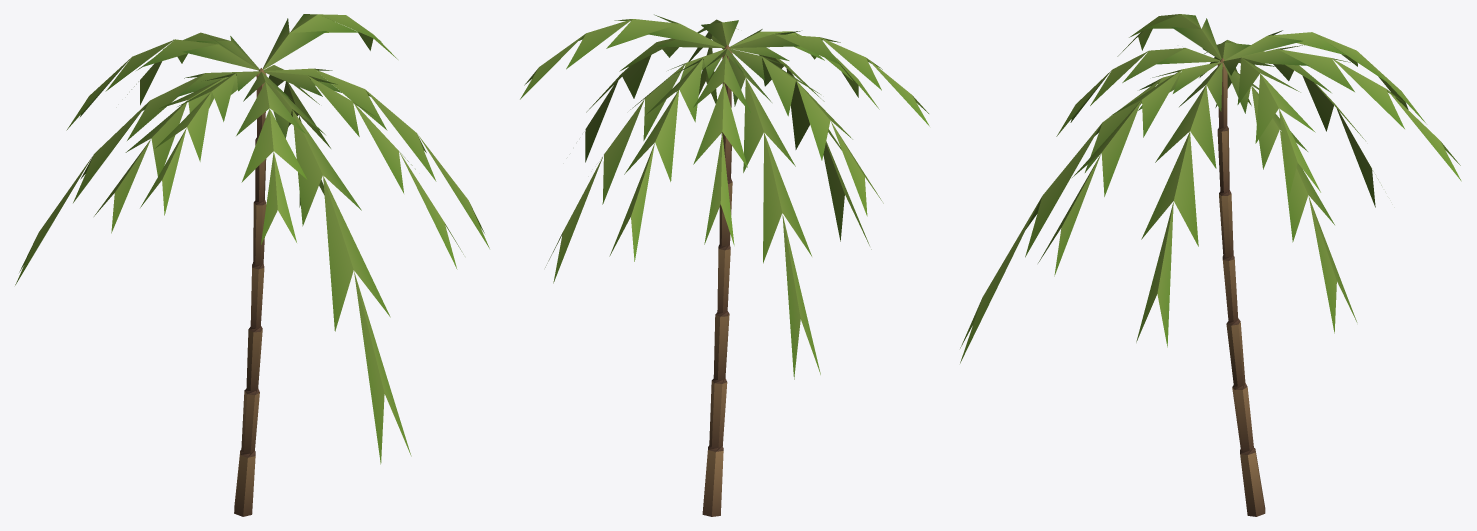
File: palm_tall_b_far.glb
3 views of the same model, side by side, from view 1: azimuth 30°, elevation 25°; view 2: azimuth 150°, elevation 25°; view 3: azimuth 270°, elevation 25° (orthographic).
Parts seen in each view (by area): view 1: palm_tall_b_far_leaf, palm_tall_b_far_solid; view 2: palm_tall_b_far_leaf, palm_tall_b_far_solid; view 3: palm_tall_b_far_leaf, palm_tall_b_far_solid.
Part boxes in pixels (left/top/right/bottom): palm_tall_b_far_leaf: left=15, top=14, right=489, bottom=464; palm_tall_b_far_solid: left=234, top=68, right=266, bottom=516; palm_tall_b_far_leaf: left=520, top=14, right=929, bottom=379; palm_tall_b_far_solid: left=702, top=45, right=732, bottom=516; palm_tall_b_far_leaf: left=960, top=14, right=1461, bottom=363; palm_tall_b_far_solid: left=1217, top=58, right=1265, bottom=516.
Size of the model in its own units: 10.61 by 13.22 by 12.62.
